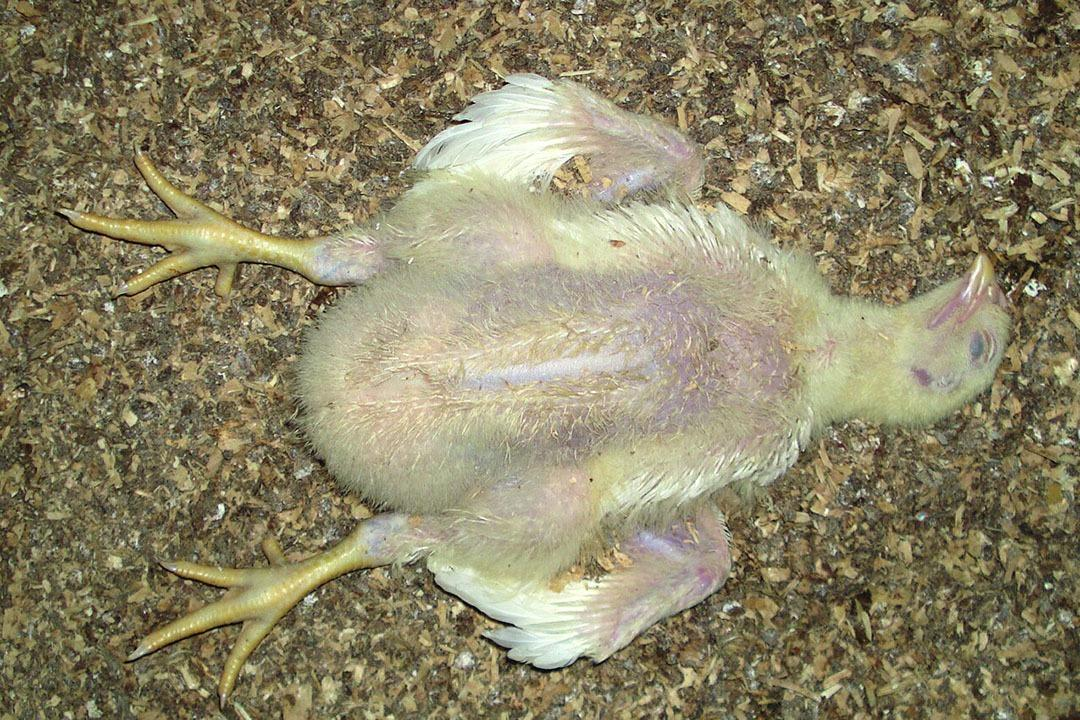AbNormal: (52, 75, 999, 693)
